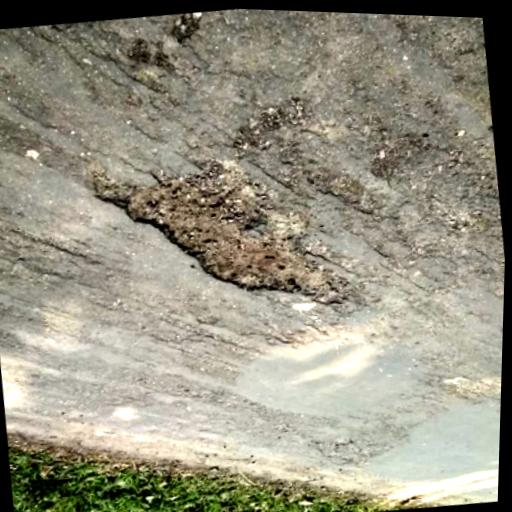pothole: (79, 132, 362, 338)
